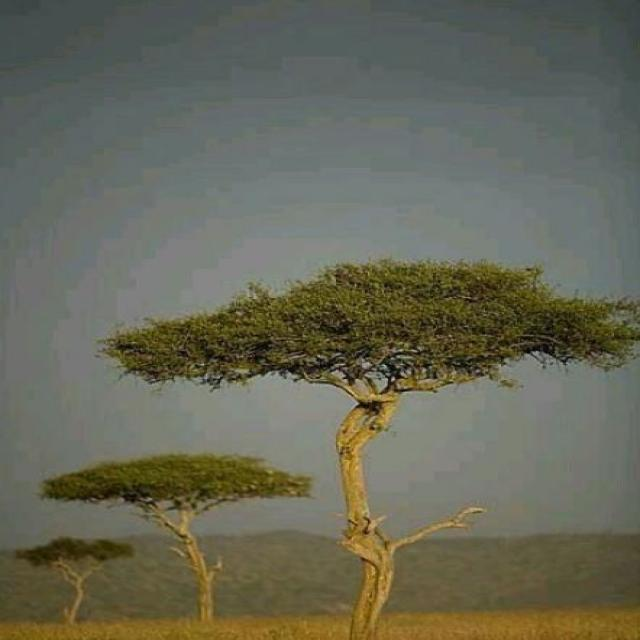Acacia: (109, 237, 598, 608), (10, 411, 276, 634)
